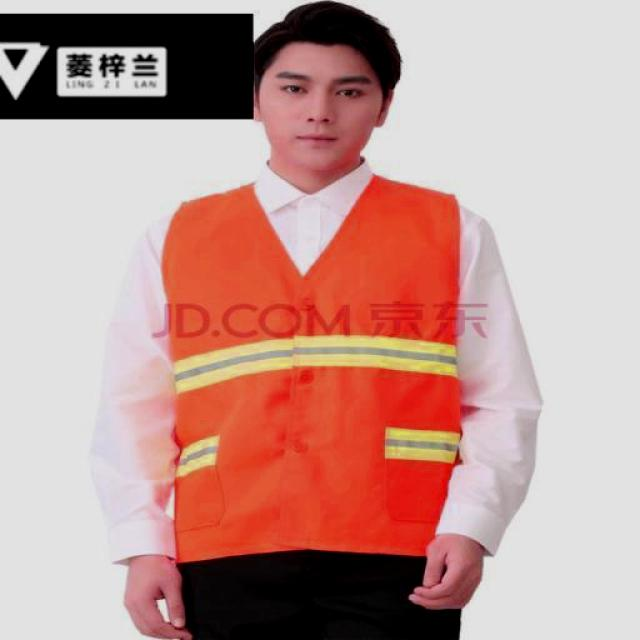face_nomask: (267, 68, 378, 158)
hand_noglove: (404, 530, 497, 620), (117, 551, 198, 640)
head_nohelmet: (246, 0, 402, 76)
person: (96, 0, 549, 640)
vest: (158, 178, 474, 557)
